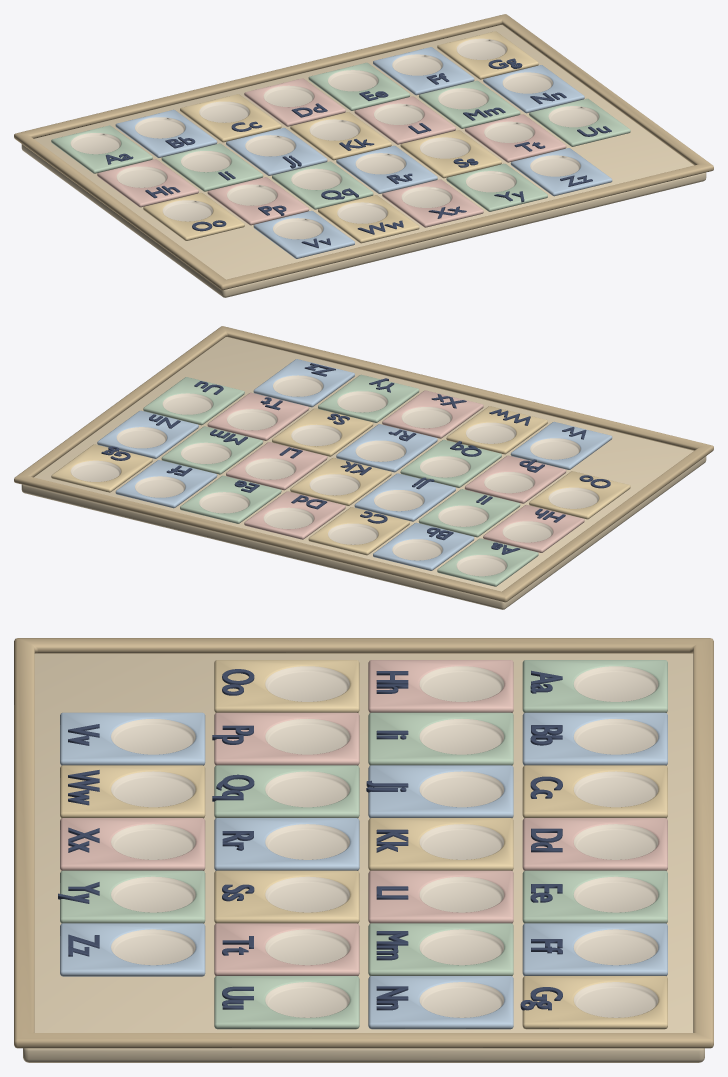
Rendered from alphabet_board.glb.
The picture shows the model from 3 angles, top to bottom: view 1: azimuth 30°, elevation 25°; view 2: azimuth 150°, elevation 25°; view 3: azimuth 270°, elevation 25°; orthographic projection. The views are drawn at different scales.
Visible parts, largest first — view 1: board_base, board_rim, tile_A, tile_C, tile_E, tile_Y, tile_W, tile_B, tile_F, tile_G, tile_I, tile_K (+16 smaller); view 2: board_base, board_rim, tile_J, tile_G, tile_P, tile_Y, tile_M, tile_A, tile_C, tile_D, tile_E, tile_I (+16 smaller); view 3: board_base, board_rim, tile_Y, tile_P, tile_G, tile_Z, tile_E, tile_I, tile_L, tile_N, tile_S, tile_U (+16 smaller).
Part boxes in pixels (<box>): board_base: <box>21,25,706,297</box>; board_rim: <box>14,14,713,290</box>; tile_A: <box>51,125,152,173</box>; tile_C: <box>180,94,281,142</box>; tile_E: <box>308,62,410,110</box>; tile_Y: <box>446,163,547,211</box>; tile_W: <box>318,195,419,243</box>; tile_B: <box>115,109,217,157</box>; tile_F: <box>373,47,474,95</box>; tile_G: <box>437,31,538,79</box>; tile_I: <box>161,143,263,191</box>; tile_K: <box>290,112,391,160</box>; board_base: <box>21,337,706,609</box>; board_rim: <box>14,326,713,602</box>; tile_J: <box>354,473,455,521</box>; tile_G: <box>51,444,152,492</box>; tile_P: <box>464,455,566,503</box>; tile_Y: <box>318,374,419,422</box>; tile_M: <box>161,426,263,474</box>; tile_A: <box>437,538,538,586</box>; tile_C: <box>308,507,409,555</box>; tile_D: <box>244,491,345,539</box>; tile_E: <box>180,475,281,523</box>; tile_I: <box>418,489,520,537</box>; board_base: <box>23,653,704,1062</box>; board_rim: <box>14,638,713,1048</box>; tile_Y: <box>58,870,205,923</box>; tile_P: <box>212,712,359,765</box>; tile_G: <box>520,976,667,1029</box>; tile_Z: <box>60,923,205,976</box>; tile_E: <box>522,870,667,923</box>; tile_I: <box>368,712,513,765</box>; tile_L: <box>368,870,513,923</box>; tile_N: <box>368,976,513,1029</box>; tile_S: <box>214,870,359,923</box>; tile_U: <box>214,976,359,1029</box>.
Size of the model in its own units: 3.22 by 0.105 by 2.36.
